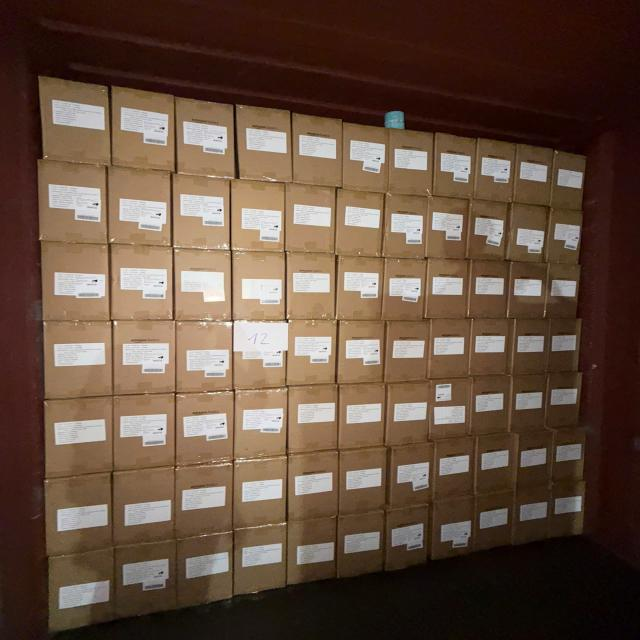Carton: (41, 78, 112, 168), (39, 162, 110, 246), (46, 474, 114, 560), (48, 548, 116, 634), (42, 240, 112, 322), (44, 397, 114, 479), (112, 84, 178, 168), (108, 165, 174, 247), (45, 322, 115, 399), (113, 540, 177, 622), (176, 96, 238, 180), (112, 467, 176, 548), (109, 247, 173, 324), (115, 393, 177, 472), (112, 319, 176, 395), (178, 533, 237, 611), (174, 172, 232, 250), (176, 248, 235, 323), (238, 103, 294, 182), (178, 393, 236, 469), (178, 463, 236, 538), (234, 522, 290, 598), (234, 458, 289, 533), (176, 320, 233, 392), (229, 178, 283, 253), (234, 318, 290, 389), (236, 390, 289, 464), (230, 251, 284, 323), (291, 112, 342, 187), (287, 450, 339, 522), (288, 518, 340, 589), (285, 182, 336, 254), (286, 383, 338, 453), (338, 510, 388, 582), (286, 250, 335, 321), (286, 319, 336, 388), (339, 448, 388, 518), (336, 189, 385, 258), (341, 122, 387, 194), (336, 383, 384, 452), (386, 506, 433, 576), (337, 254, 385, 322), (388, 128, 434, 196), (338, 320, 386, 385), (390, 442, 435, 510), (381, 192, 425, 260), (429, 496, 474, 562), (388, 381, 432, 447), (383, 320, 427, 384), (381, 257, 424, 322), (432, 136, 474, 202), (476, 431, 520, 494), (431, 439, 474, 502), (429, 380, 472, 442), (514, 427, 554, 493), (475, 140, 516, 204), (426, 259, 468, 321), (428, 196, 468, 260), (429, 318, 470, 380), (476, 490, 516, 553), (469, 198, 509, 260), (514, 142, 552, 205), (472, 318, 513, 376), (513, 485, 551, 547), (507, 201, 546, 261), (473, 373, 511, 434), (548, 481, 586, 540), (471, 262, 509, 320), (507, 262, 545, 320), (509, 376, 545, 434), (546, 376, 583, 432), (511, 320, 547, 377), (553, 154, 587, 213), (548, 207, 582, 263), (551, 427, 585, 483), (547, 265, 581, 320), (548, 318, 580, 373)
